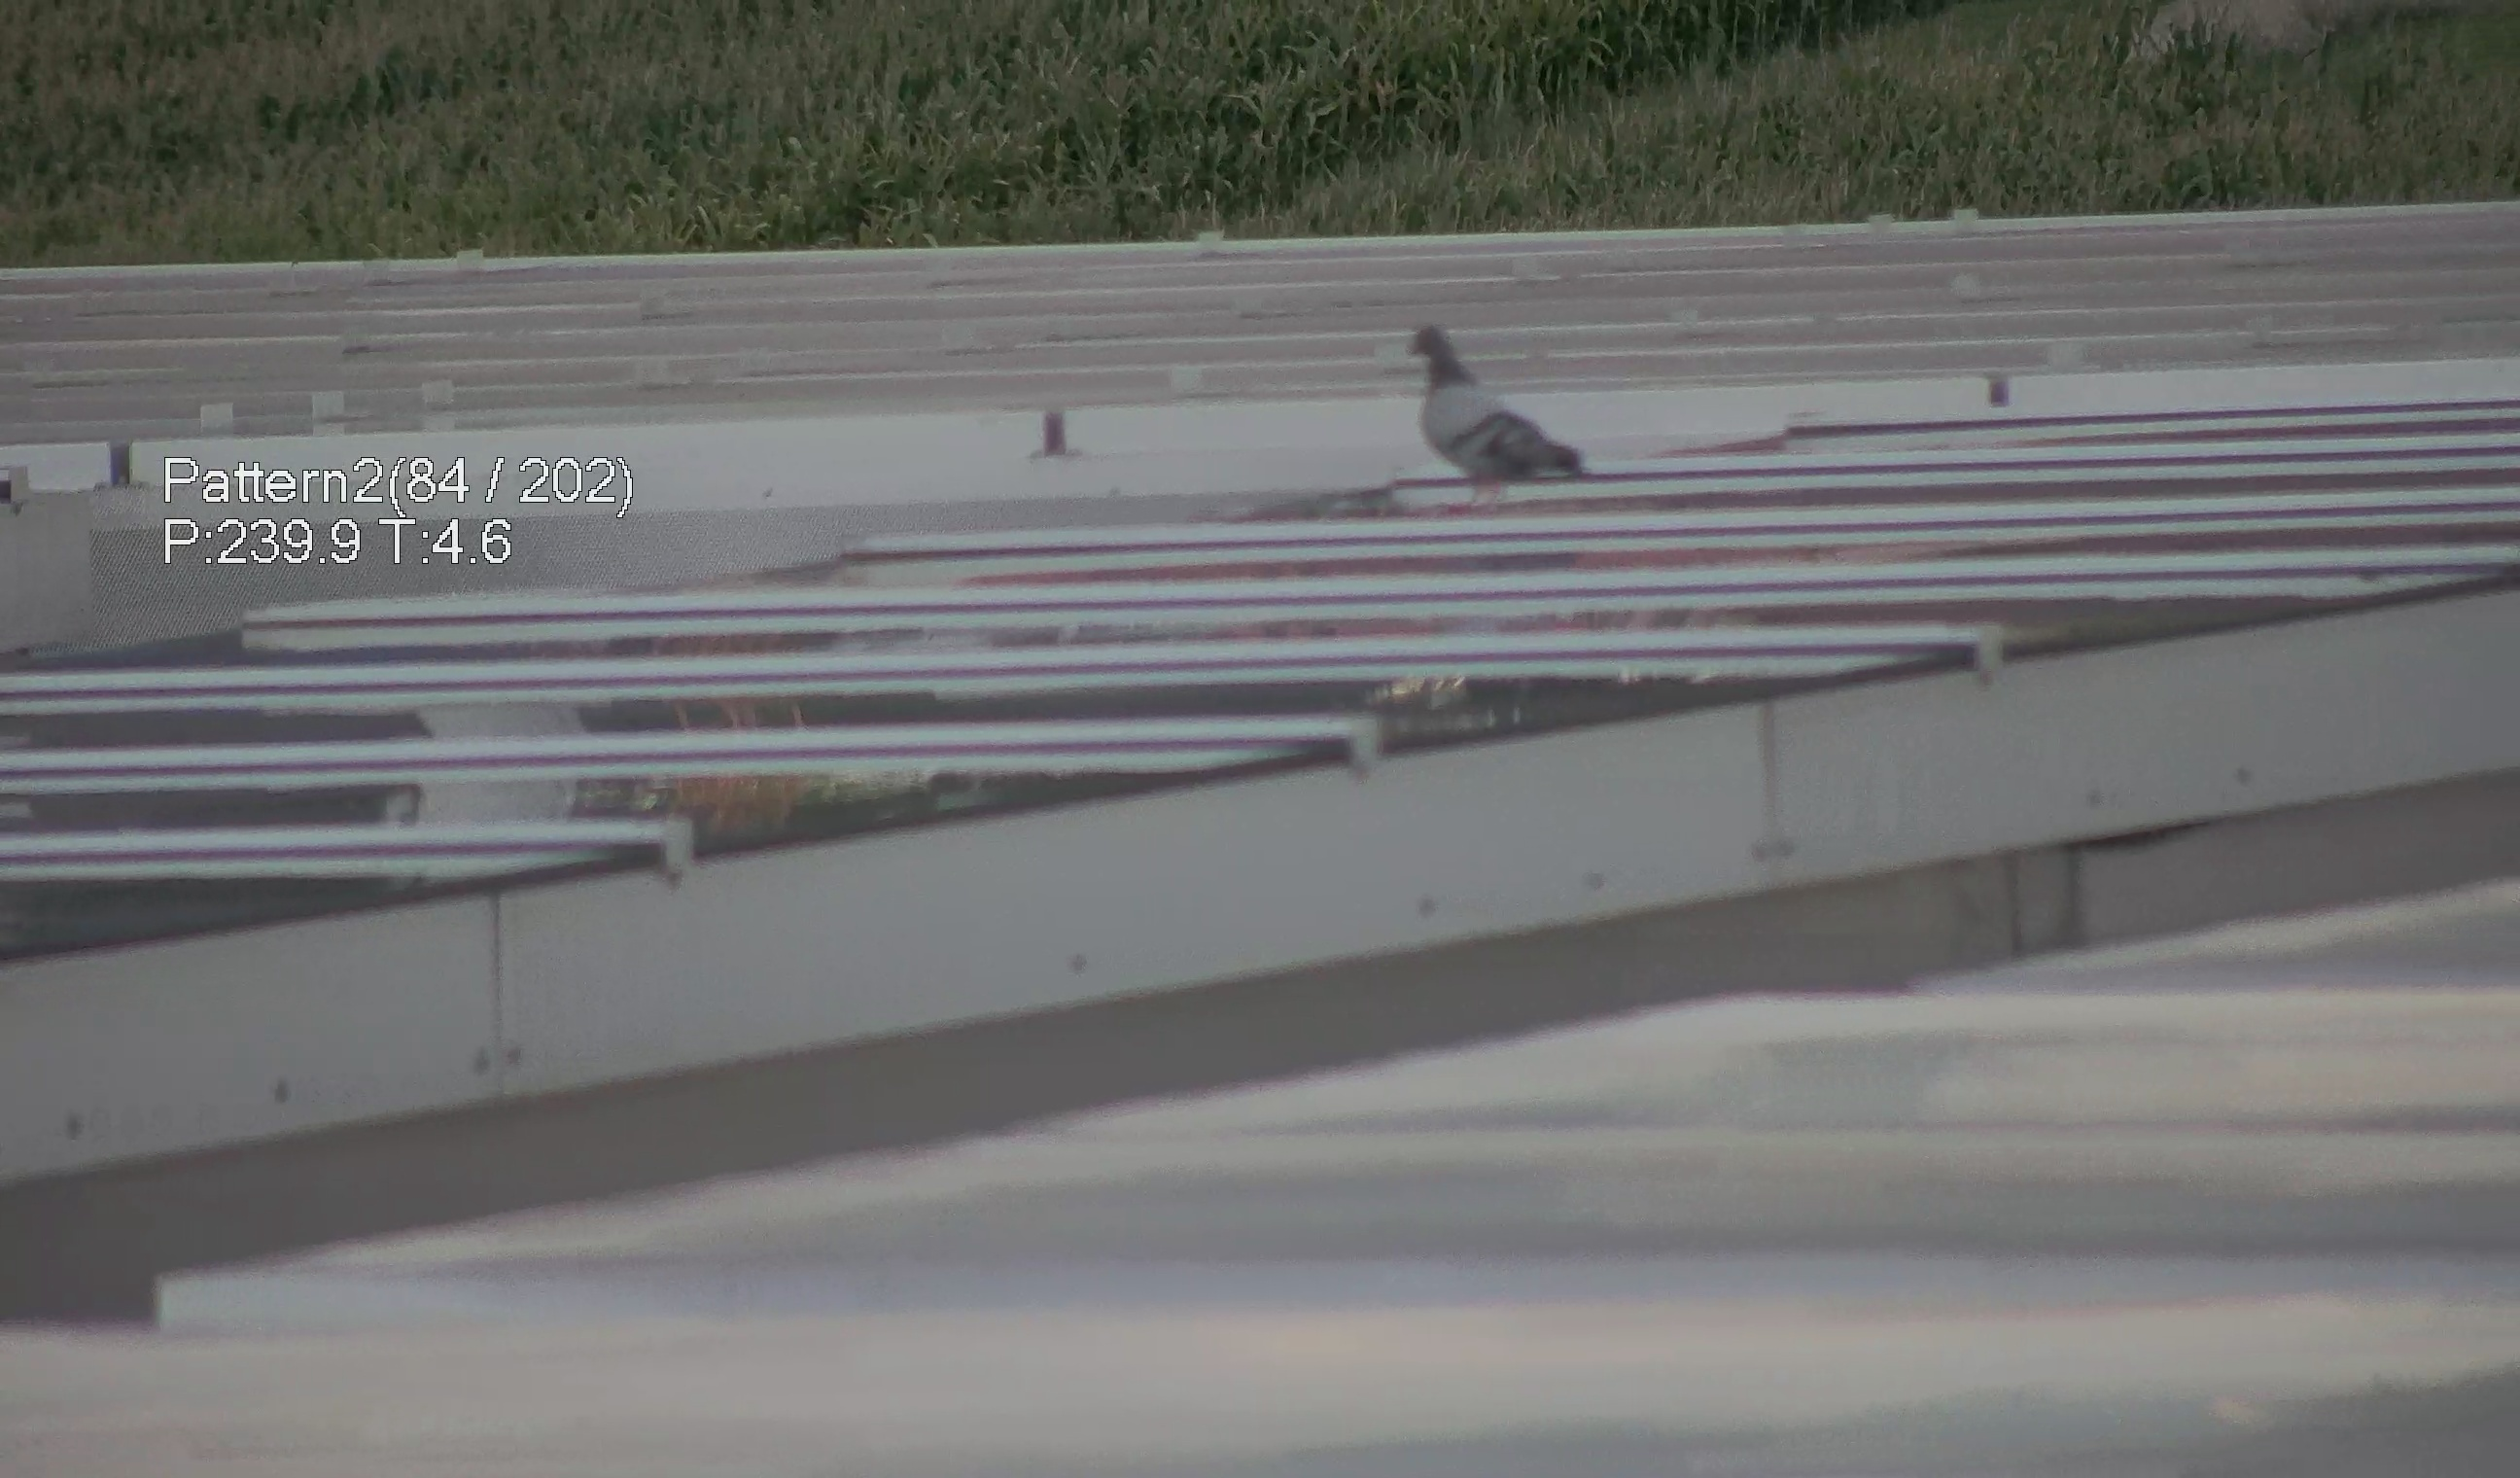Pigeon: (1391, 315, 1595, 494)
